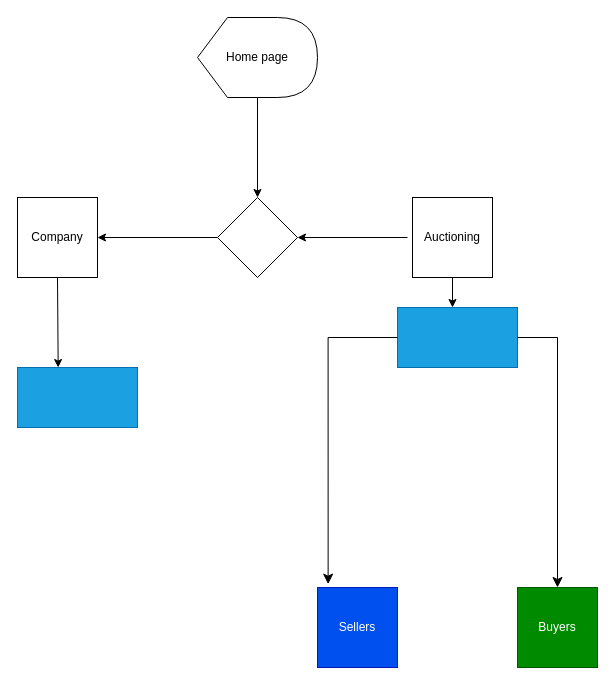
This 615x685 diagram has some shape labels left out. The centre of each missing label's shape, as x and y in pixels:
Register Company: the point at 77,397
User Register: the point at 457,337
